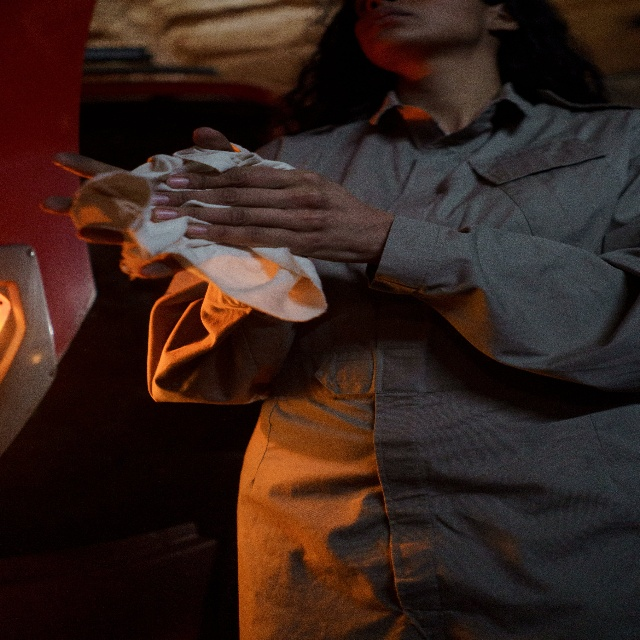Sin_guantes: (37, 117, 235, 284), (146, 143, 373, 268)
